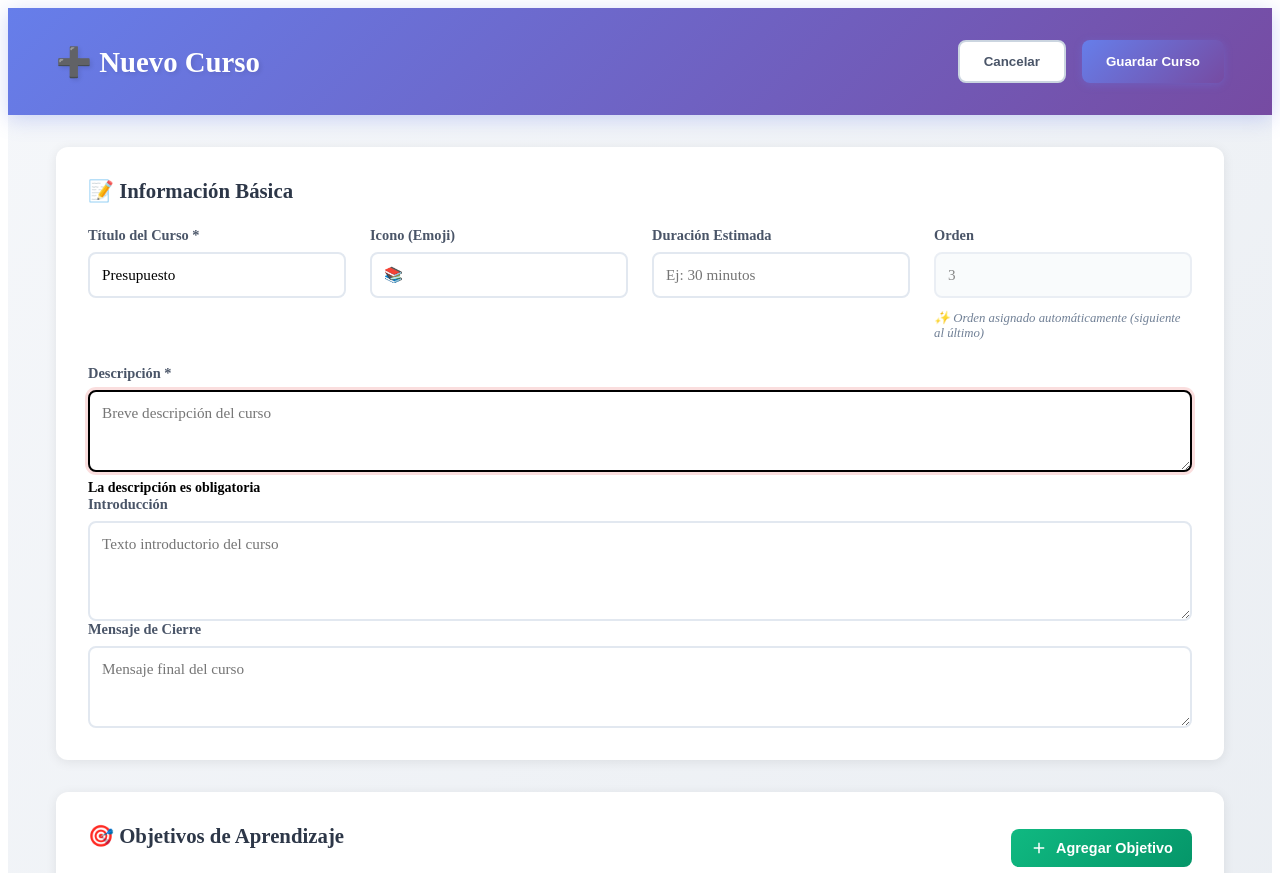
Scenario: CursoFormComponent › con titulo pero sin descripcion enfoca la descripcion, y el error se va al escribir
Type "Breve" into the text box with id "curso-descripcion" at [640, 431], box [88,390,1192,472]
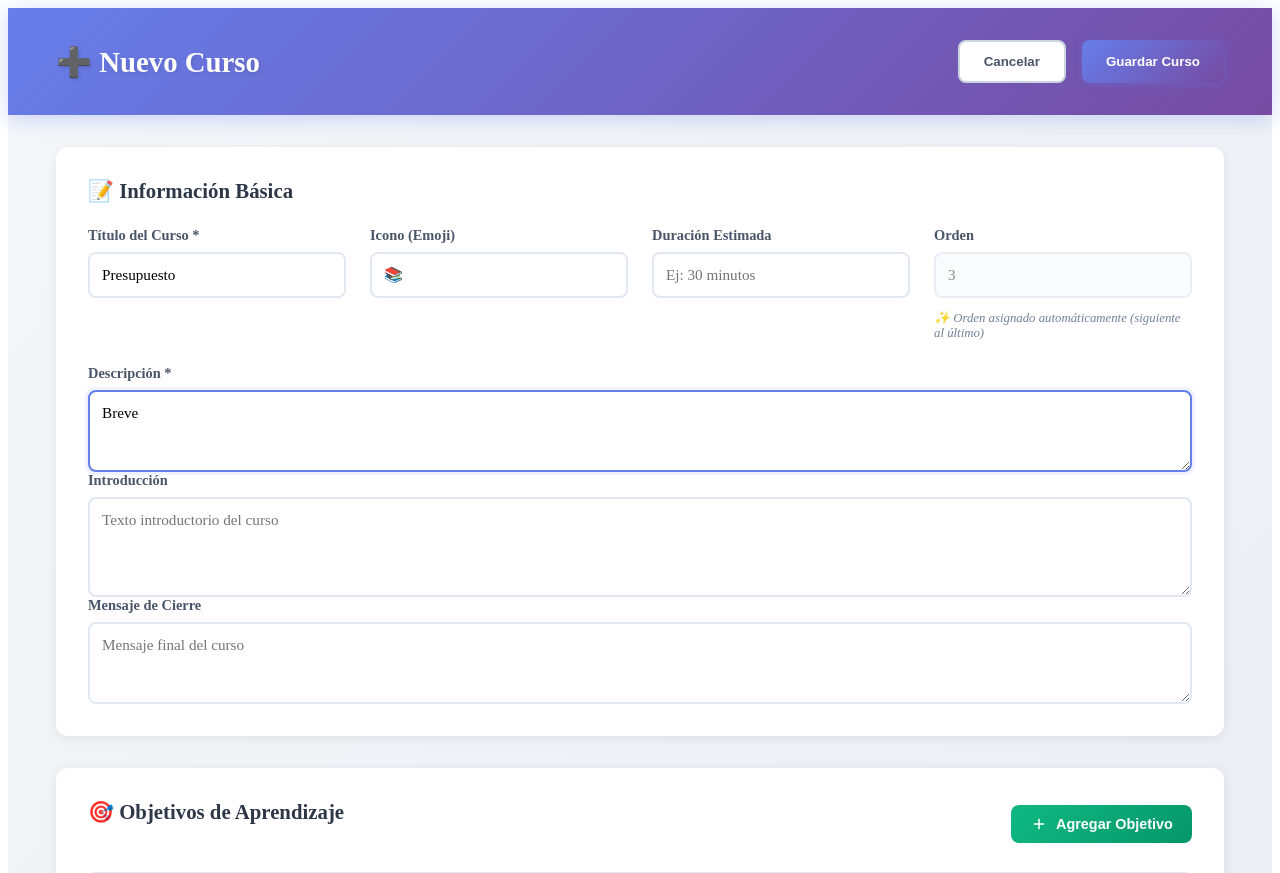
Check: the text with id "curso-descripcion-error" is gone
